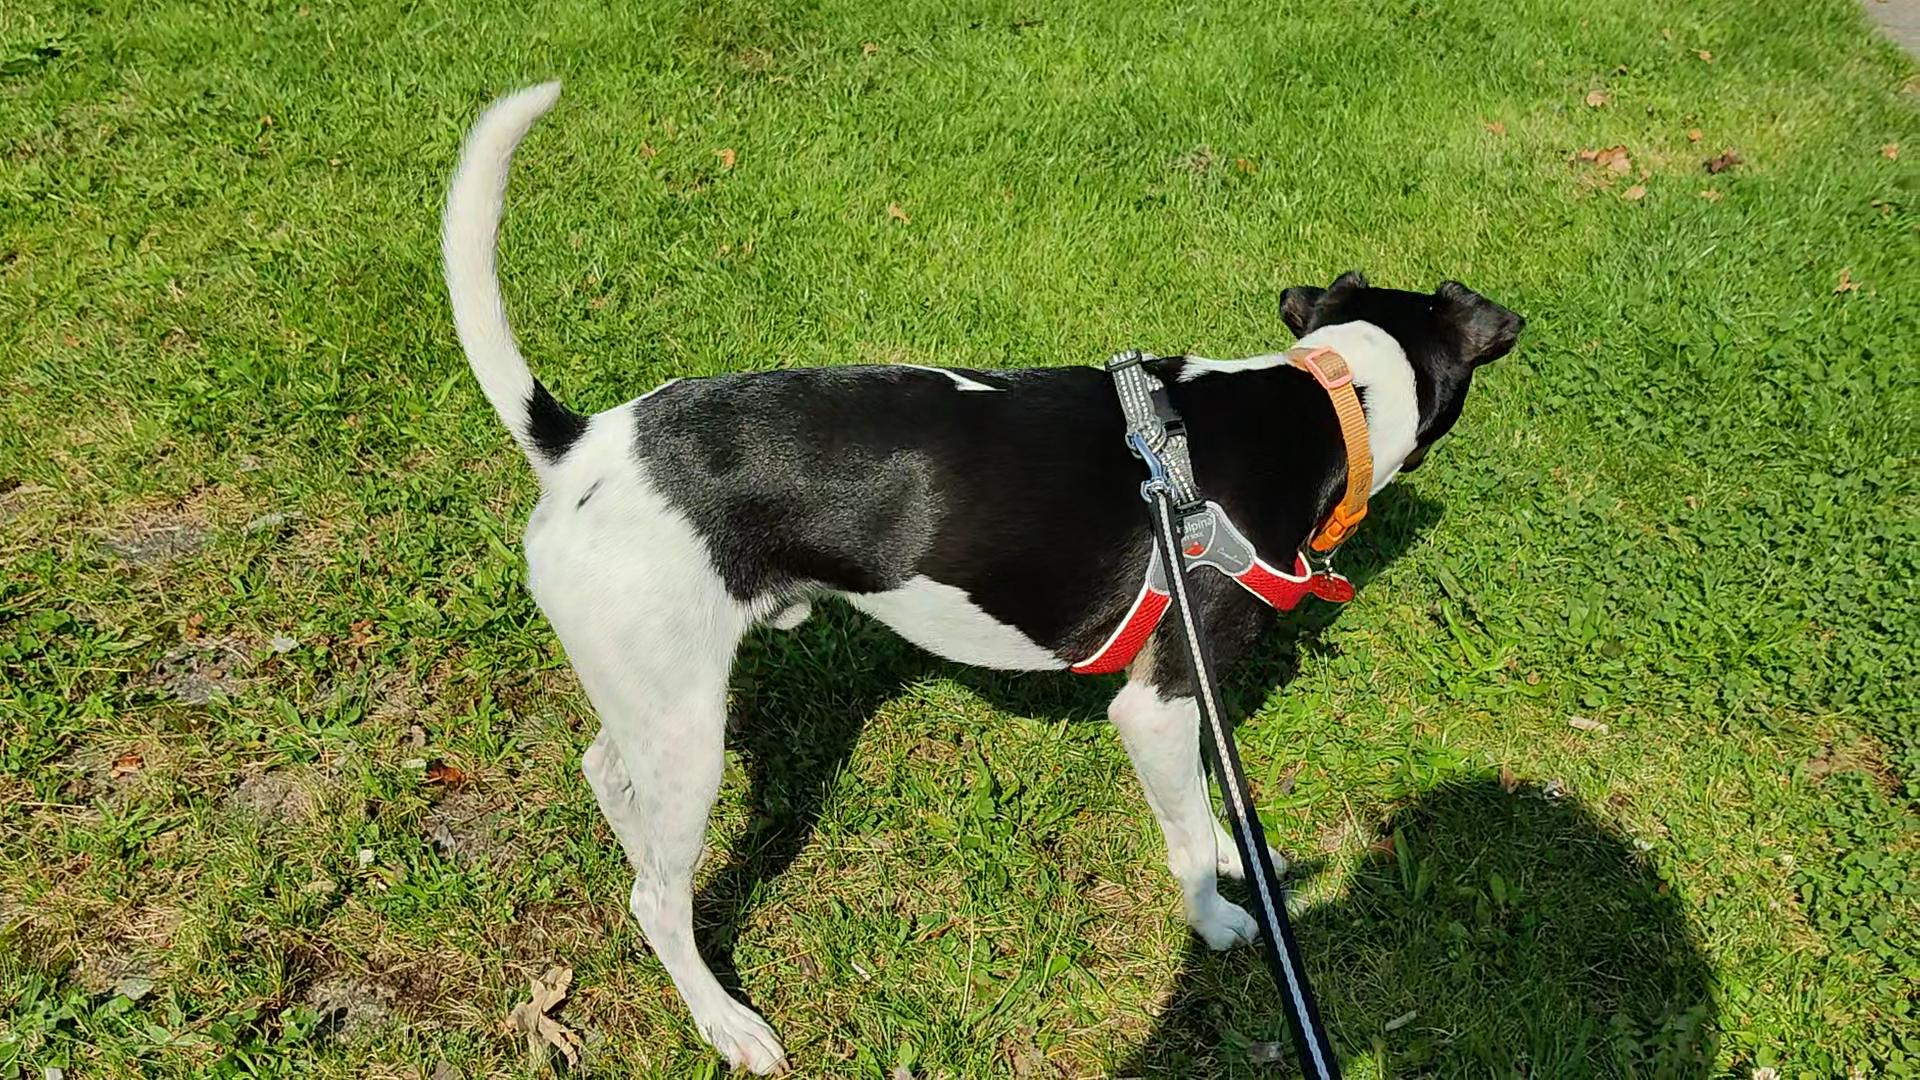Dog: (425, 69, 1534, 1079)
